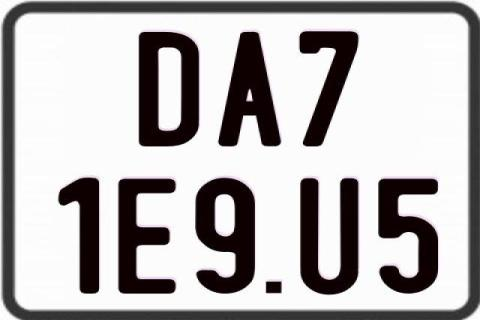0: (299, 30, 364, 148), (194, 178, 256, 294), (377, 176, 439, 291), (58, 177, 100, 297)
A: (217, 32, 281, 151)
D: (138, 29, 200, 145)
E: (116, 177, 178, 292)
U: (297, 179, 356, 297)
